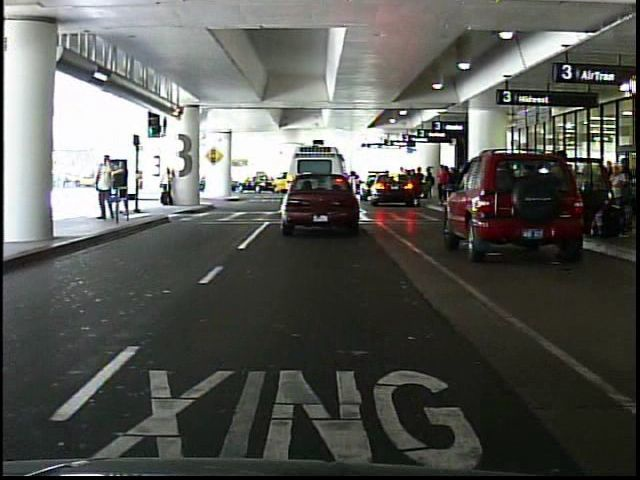person: (94, 152, 119, 226), (115, 156, 132, 218), (158, 167, 177, 210), (435, 165, 452, 203), (198, 166, 211, 204)
